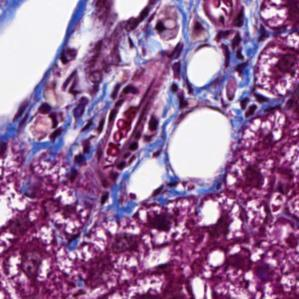inflammation: (43, 89, 112, 152), (102, 106, 160, 166), (210, 27, 259, 68)
